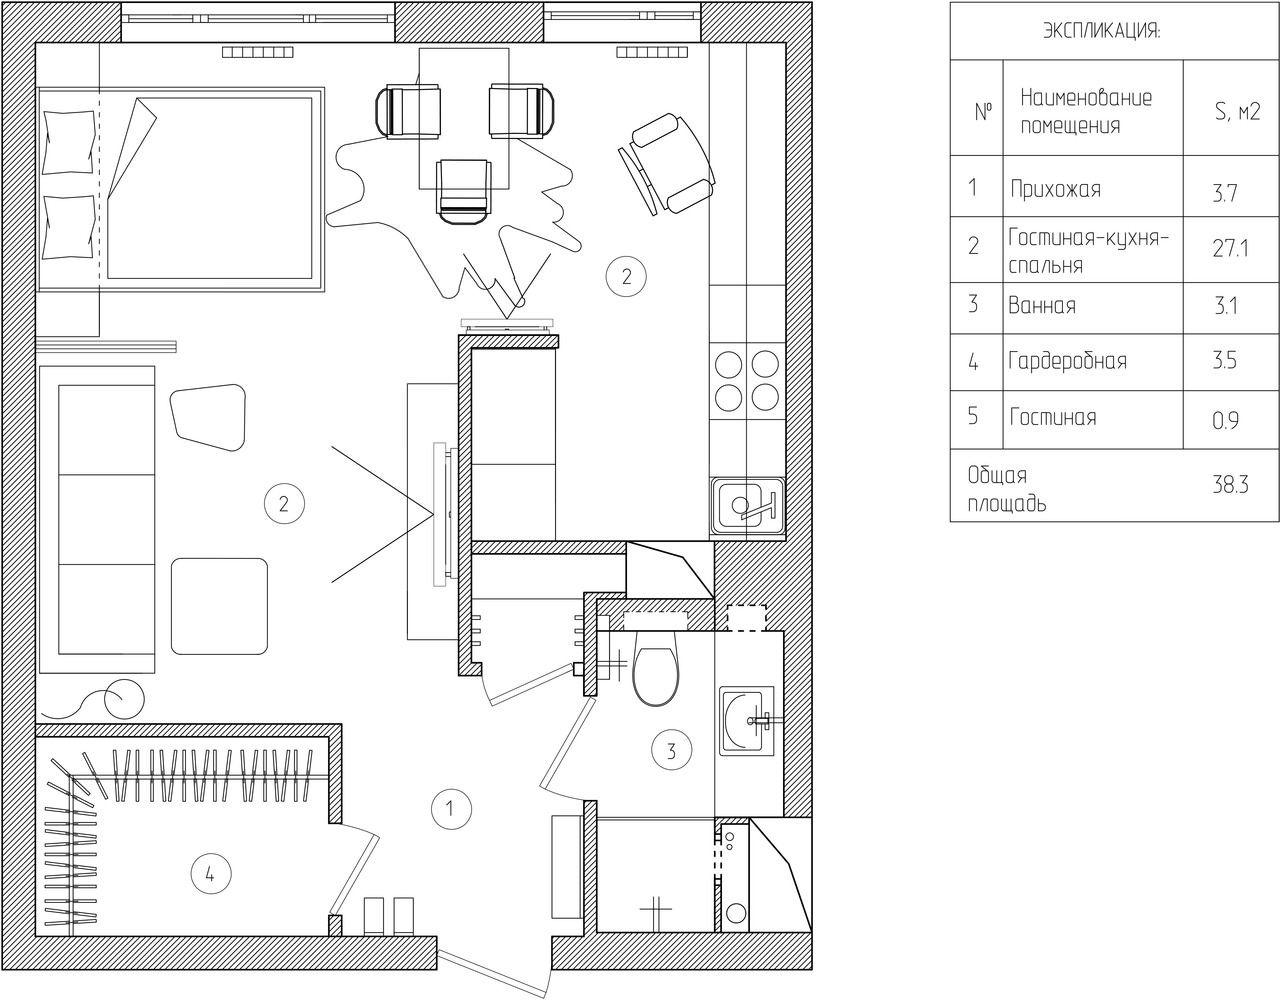bathroom: (594, 631, 784, 934)
bedroom: (33, 41, 380, 336)
dining_room: (380, 41, 791, 334)
hallway: (343, 596, 584, 939)
kitchen: (476, 341, 784, 543)
living_room: (36, 343, 459, 727)
walk_in_closet: (36, 740, 329, 936)
